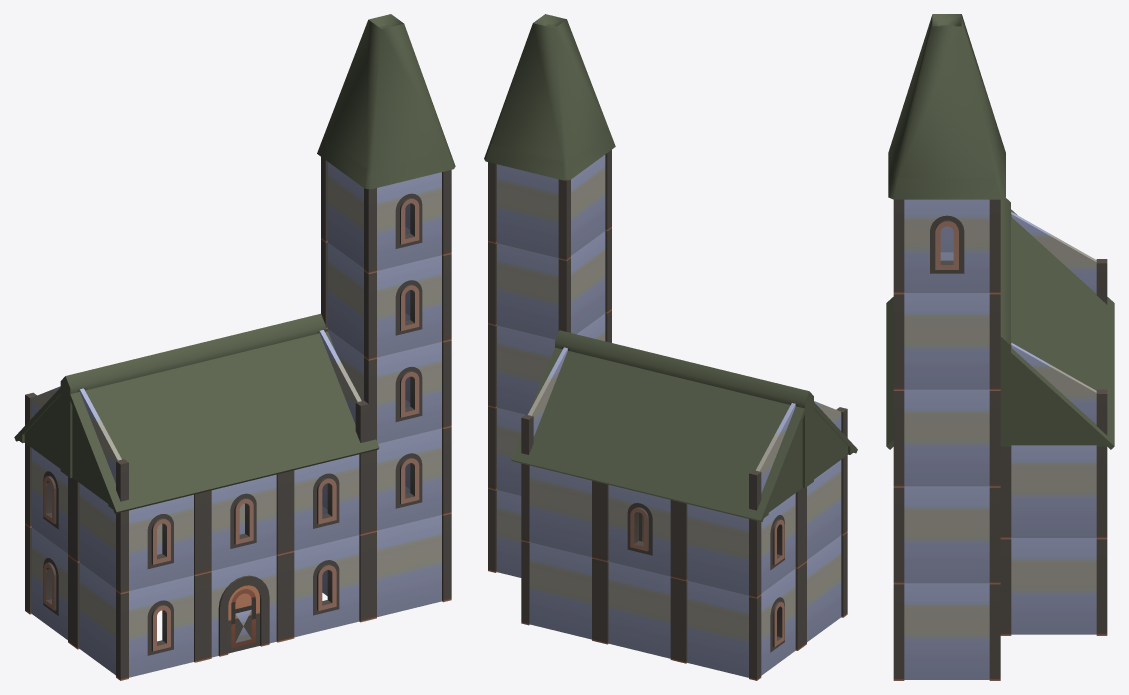
The model's file is chapelle-elcres.glb.
3 renders of one model, left to right at view 1: azimuth 30°, elevation 25°; view 2: azimuth 150°, elevation 25°; view 3: azimuth 270°, elevation 25°, orthographic. The views are drawn at different scales.
Parts seen in each view (by area): view 1: wall-window-round, roof-high; view 2: wall-window-round, roof-high; view 3: wall-window-round, roof-high.
Part boxes in pixels (box(x1,y1,x2,y2)): wall-window-round: box(25, 157, 451, 680); roof-high: box(14, 14, 455, 513); wall-window-round: box(488, 150, 847, 680); roof-high: box(484, 14, 857, 521); wall-window-round: box(893, 199, 1107, 680); roof-high: box(886, 14, 1114, 449).
Bounding box in the file's own units: 12.42 × 19.8 × 6.42.
Materials: 2 (1 with a texture image).
